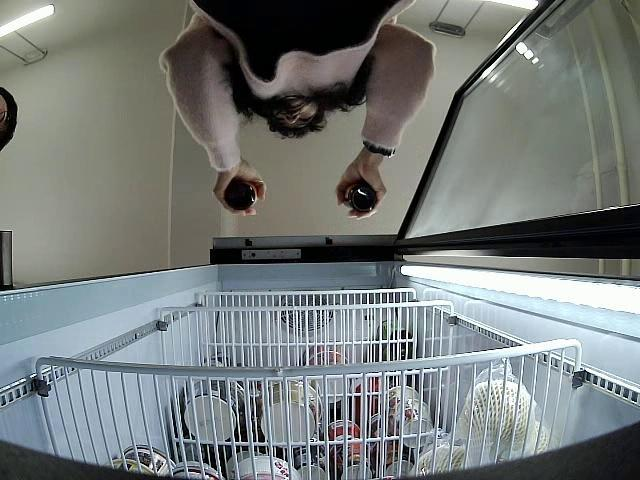17_vita500: (224, 177, 262, 214), (341, 182, 378, 213)
